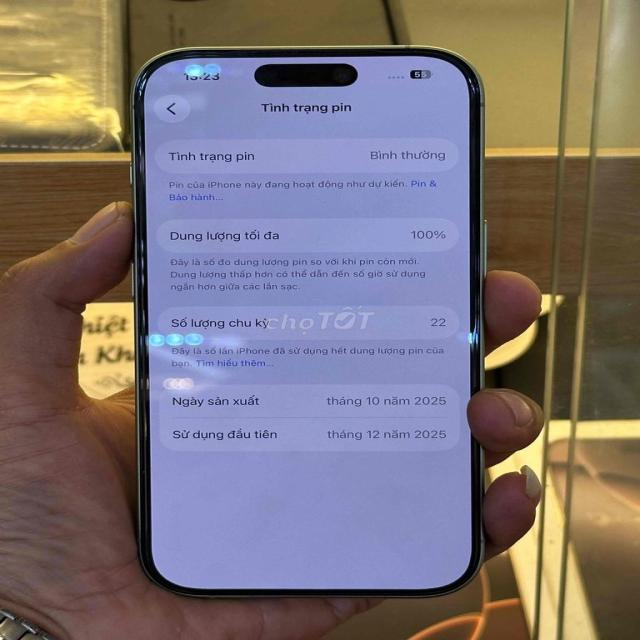gen_17: (122, 38, 507, 610)
